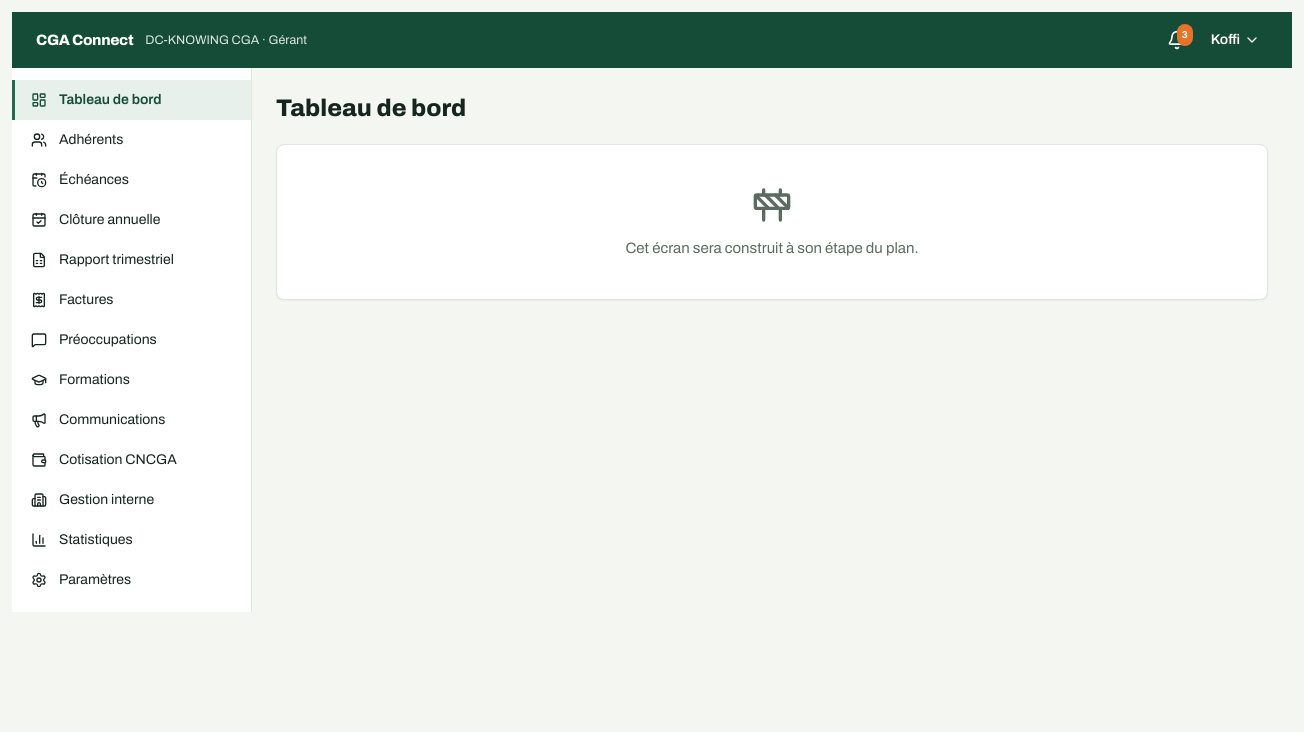
Test: Coque des espaces (04-UX-UI §5.1, §5.2) › menu « Prénom ▾ » : Mon profil · Changer d’espace · Déconnexion
Click the button "Koffi" at (1235, 40), box [1203,22,1268,58]
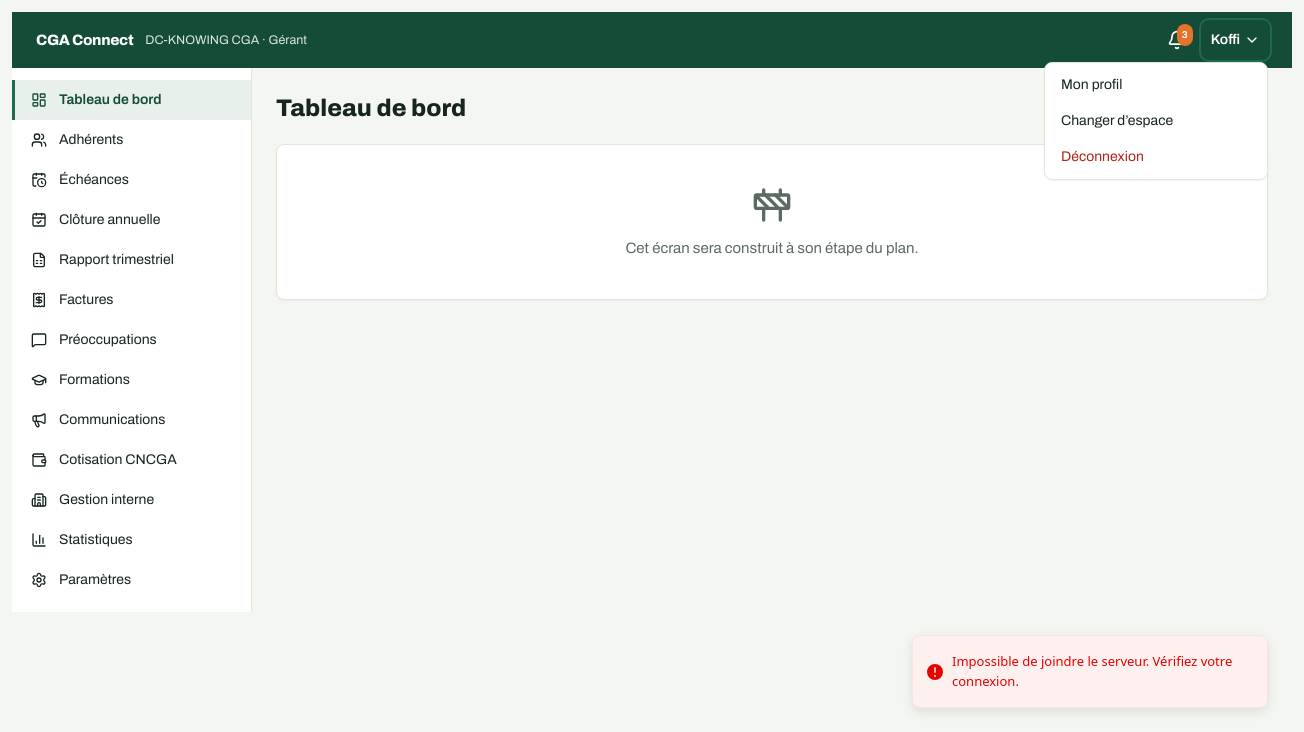
Check: the menu items read "Mon profil", "Changer d’espace", "Déconnexion", in this order, box [1061,77,1122,92]; [1061,113,1173,128]; [1045,139,1267,175]
Press Escape
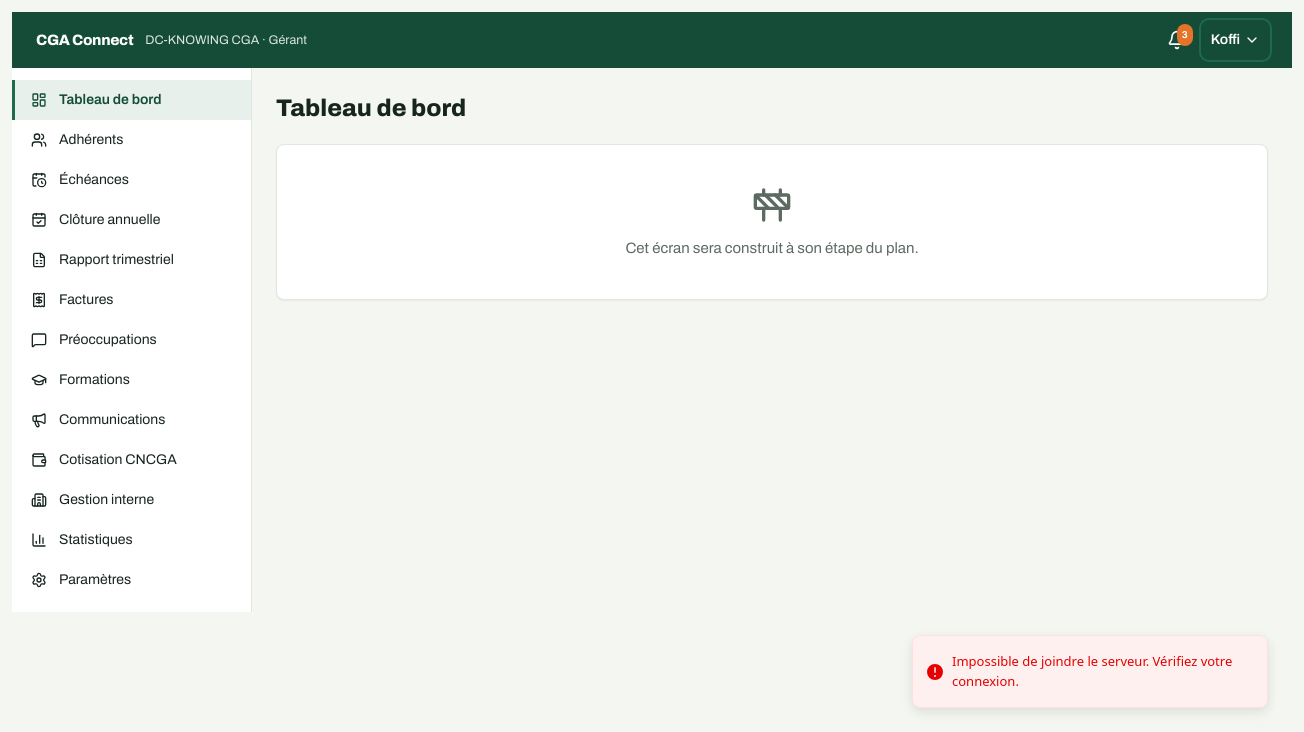
Check: the menu is gone
Click the button "Koffi" at (1235, 40), box [1203,22,1268,58]
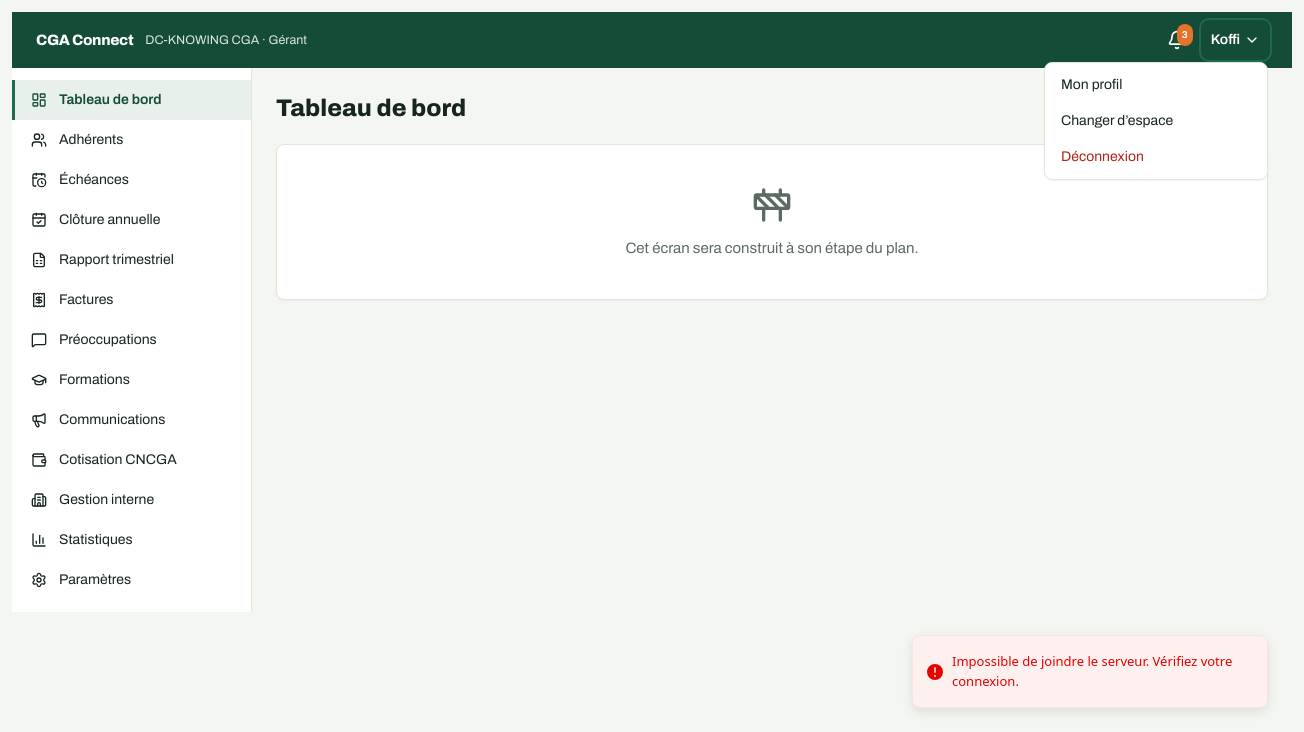
Click the button named "Fermer le menu" at (652, 372), box [12,12,1292,731]
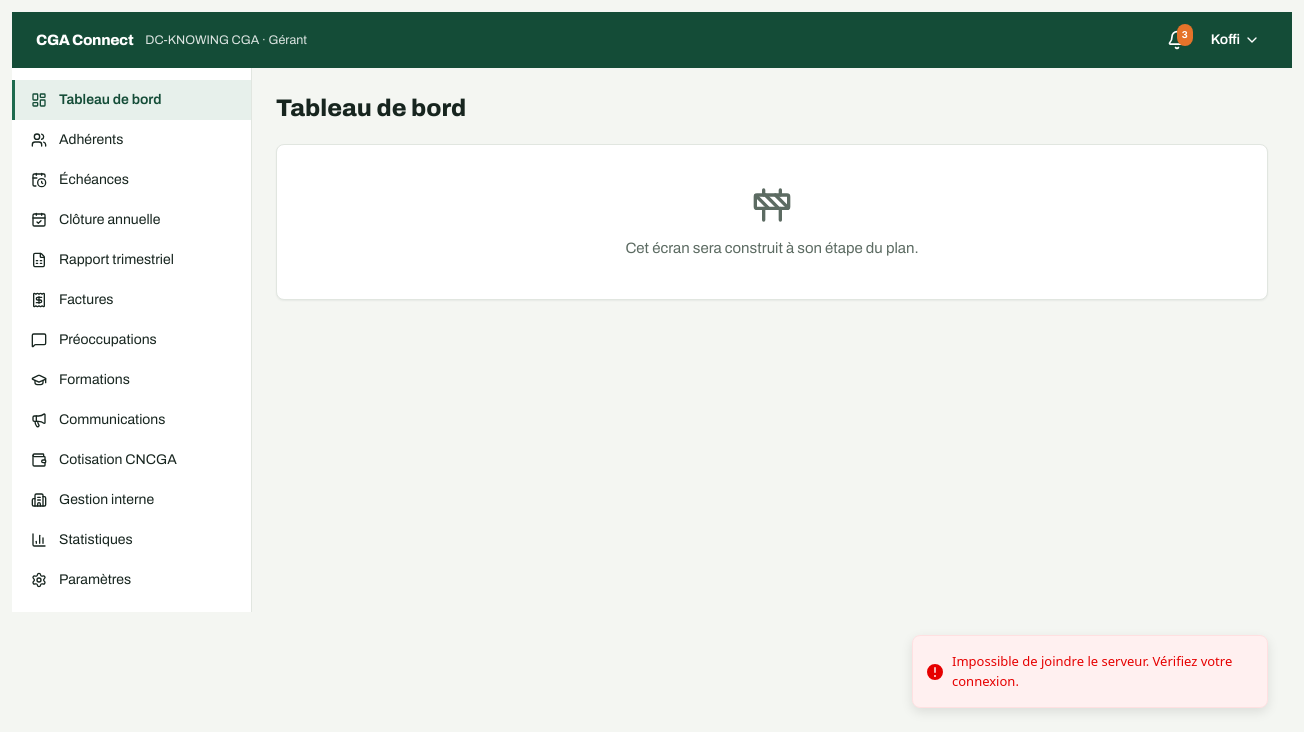
Check: the menu is gone
